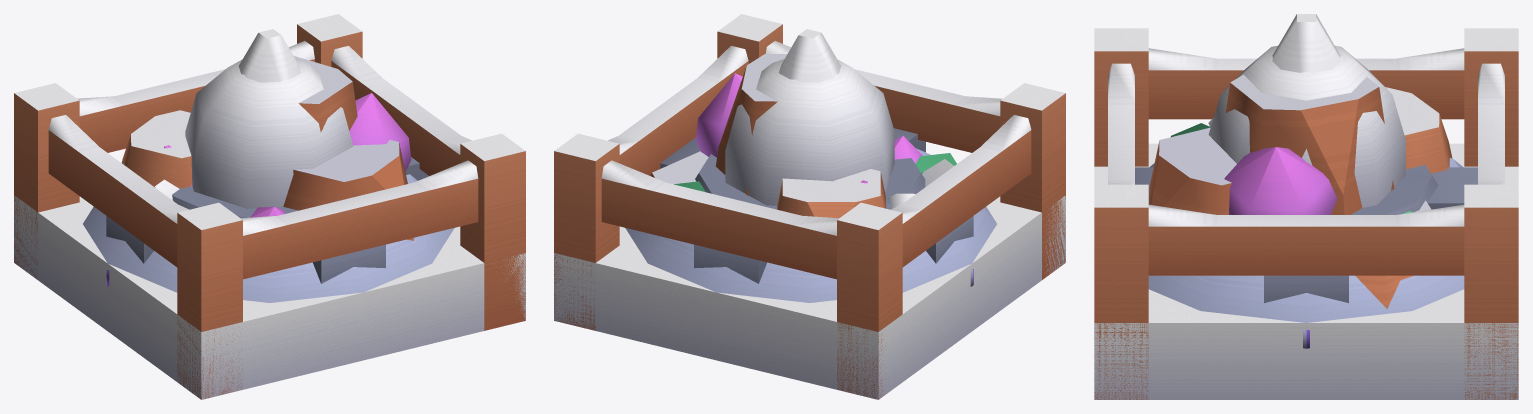
File: world-snow.glb
3 views of the same model, side by side, from view 1: azimuth 30°, elevation 25°; view 2: azimuth 150°, elevation 25°; view 3: azimuth 270°, elevation 25° (orthographic). The views are drawn at different scales.
Visible parts, largest first — view 1: snow-wood-structure, snow-tile, enemy-ufo-a, snow-tile-rock, snow-detail-crystal-large, snow-detail-tree-large; view 2: snow-wood-structure, snow-tile, enemy-ufo-a, snow-tile-rock, snow-detail-crystal-large, snow-detail-tree-large, enemy-ufo-b; view 3: snow-wood-structure, snow-tile, enemy-ufo-a, snow-tile-rock, snow-detail-crystal-large, snow-detail-tree-large.
Part boxes in pixels (x1,y1,x2,y2): snow-wood-structure: [14, 14, 525, 399]; snow-tile: [14, 195, 525, 399]; enemy-ufo-a: [83, 59, 454, 302]; snow-tile-rock: [121, 55, 413, 240]; snow-detail-crystal-large: [164, 93, 411, 217]; snow-detail-tree-large: [238, 29, 300, 82]; snow-wood-structure: [554, 14, 1065, 399]; snow-tile: [554, 196, 1065, 399]; enemy-ufo-a: [625, 59, 996, 302]; snow-tile-rock: [650, 53, 953, 218]; snow-detail-crystal-large: [695, 73, 922, 183]; snow-detail-tree-large: [779, 29, 841, 82]; enemy-ufo-b: [674, 153, 956, 192]; snow-wood-structure: [1094, 28, 1518, 399]; snow-tile: [1094, 143, 1518, 399]; enemy-ufo-a: [1135, 45, 1477, 322]; snow-tile-rock: [1148, 74, 1452, 308]; snow-detail-crystal-large: [1224, 147, 1336, 214]; snow-detail-tree-large: [1272, 14, 1340, 72].
Bounding box in the file's own units: 1 × 0.76 × 1.
Materials: 1 (1 with a texture image).
